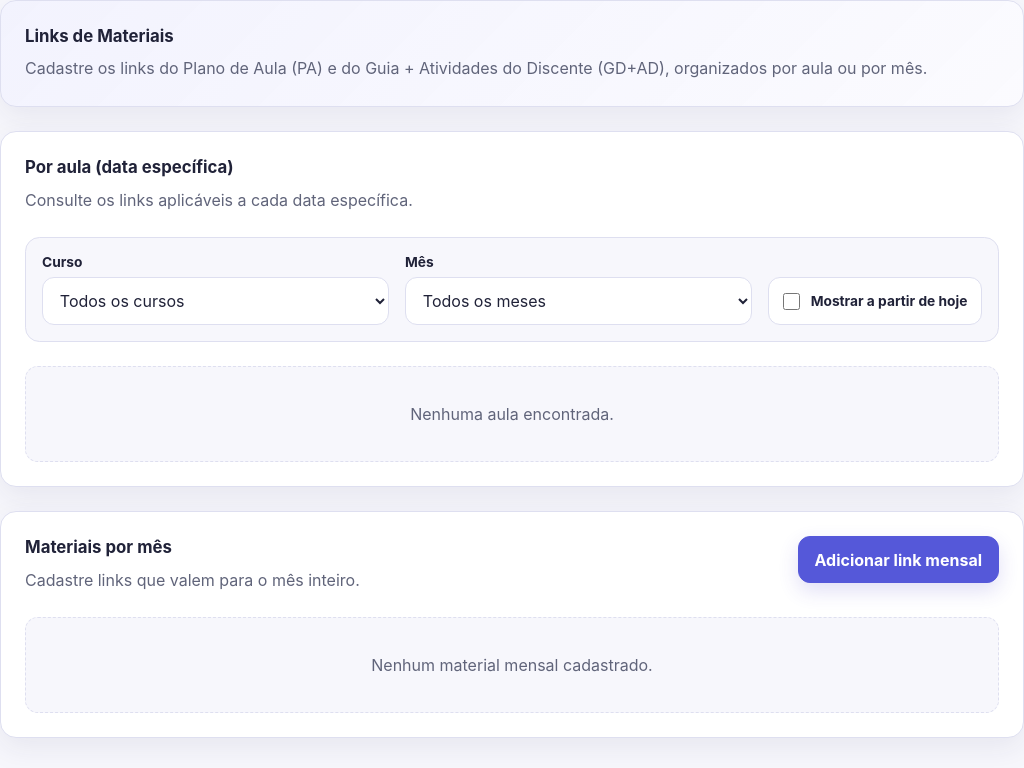
Test: composição das formas de organização › atualiza a herança por aula depois de salvar um mês
Click the button "Adicionar link mensal": x=898, y=560 [798, 536, 999, 583]
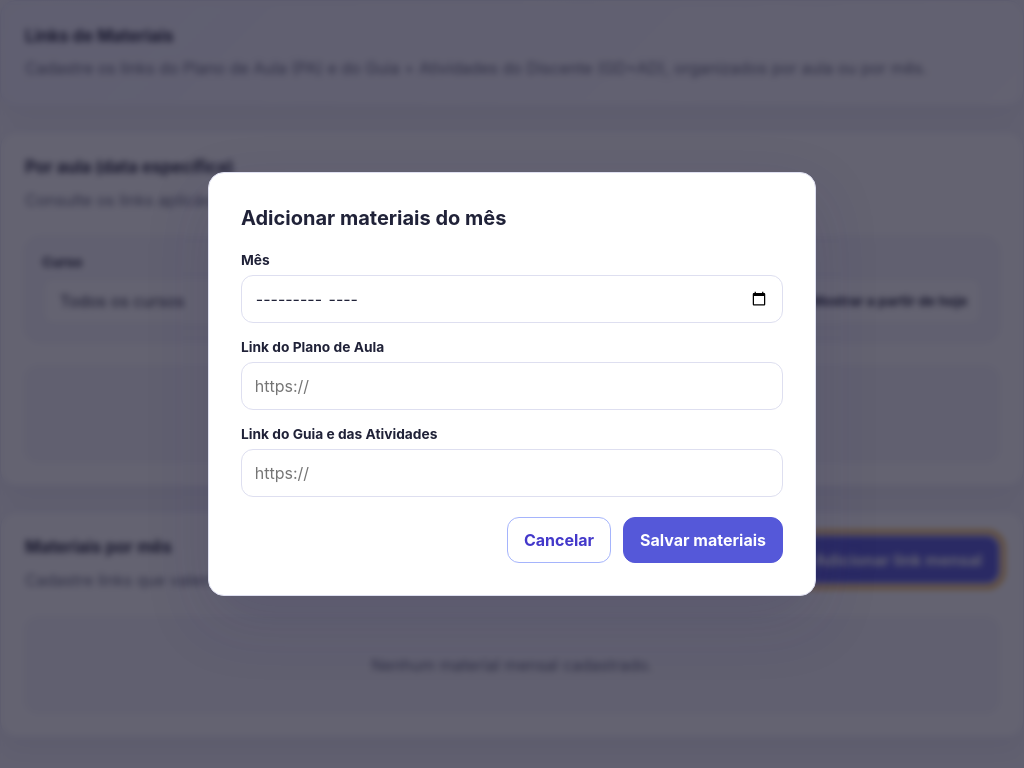
In the field labelled "Mês": x=512, y=299 [241, 275, 783, 323], type "2026-10"
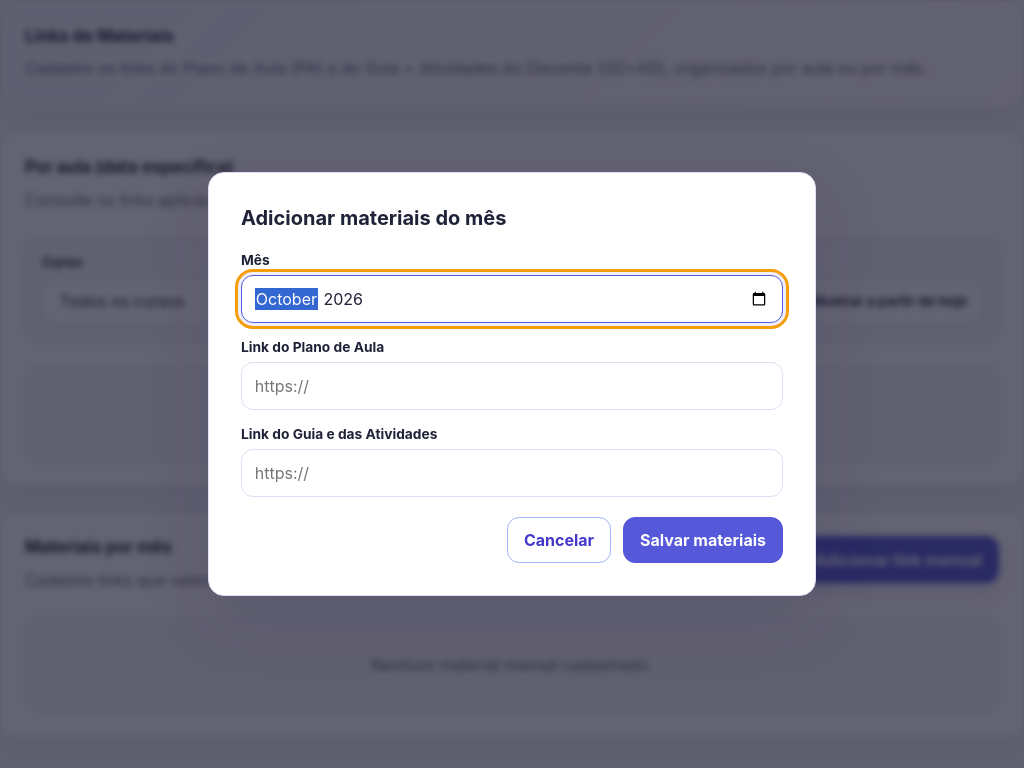
Click the button "Salvar materiais": x=703, y=540 [623, 517, 783, 564]
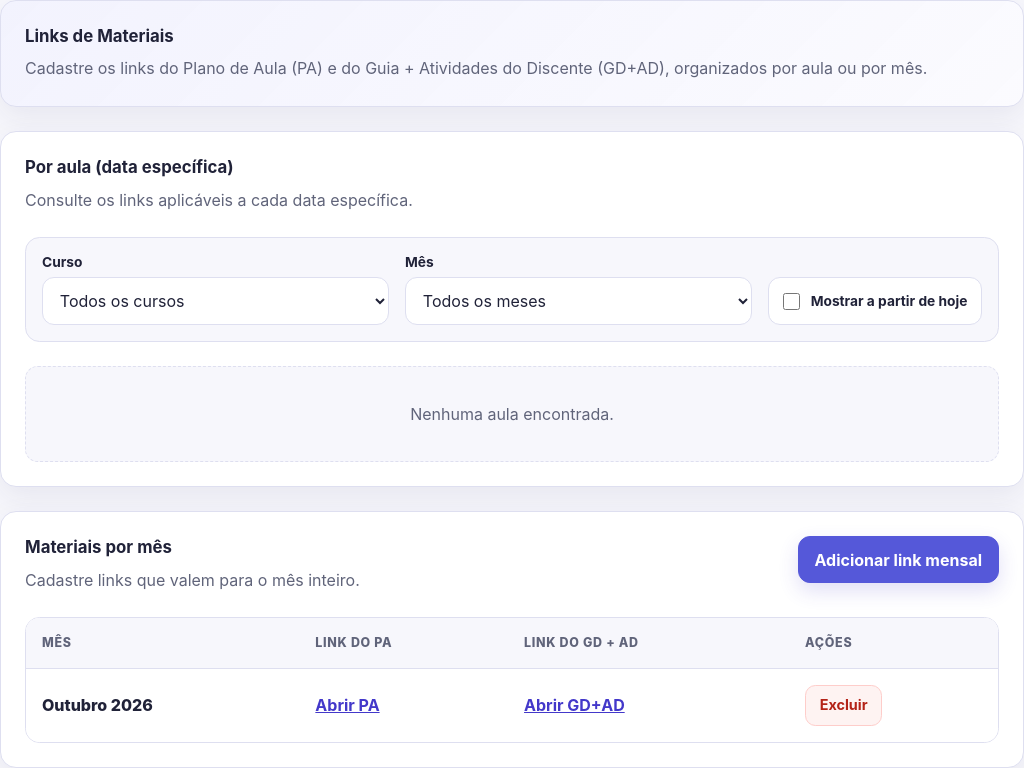
Result: the column heading "Outubro 2026" is shown at [26, 670, 299, 742]
